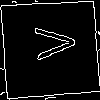V: (25, 24, 76, 62)
